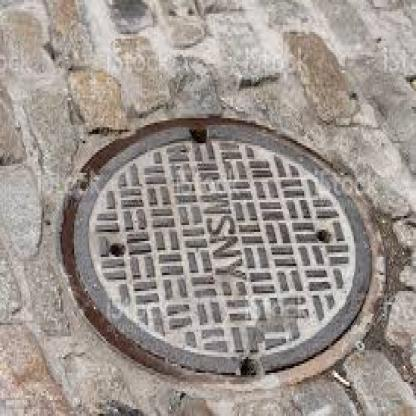closed manhole-not overflowing-: (66, 109, 376, 372)
